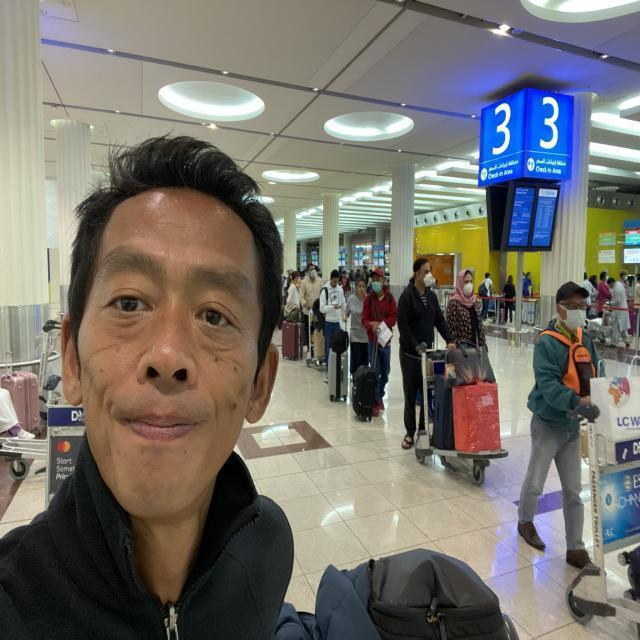direk: (16, 142, 292, 640), (517, 284, 601, 576), (397, 254, 445, 451), (363, 267, 395, 397), (447, 268, 485, 354), (317, 267, 347, 367), (346, 278, 369, 394), (298, 255, 320, 321)
